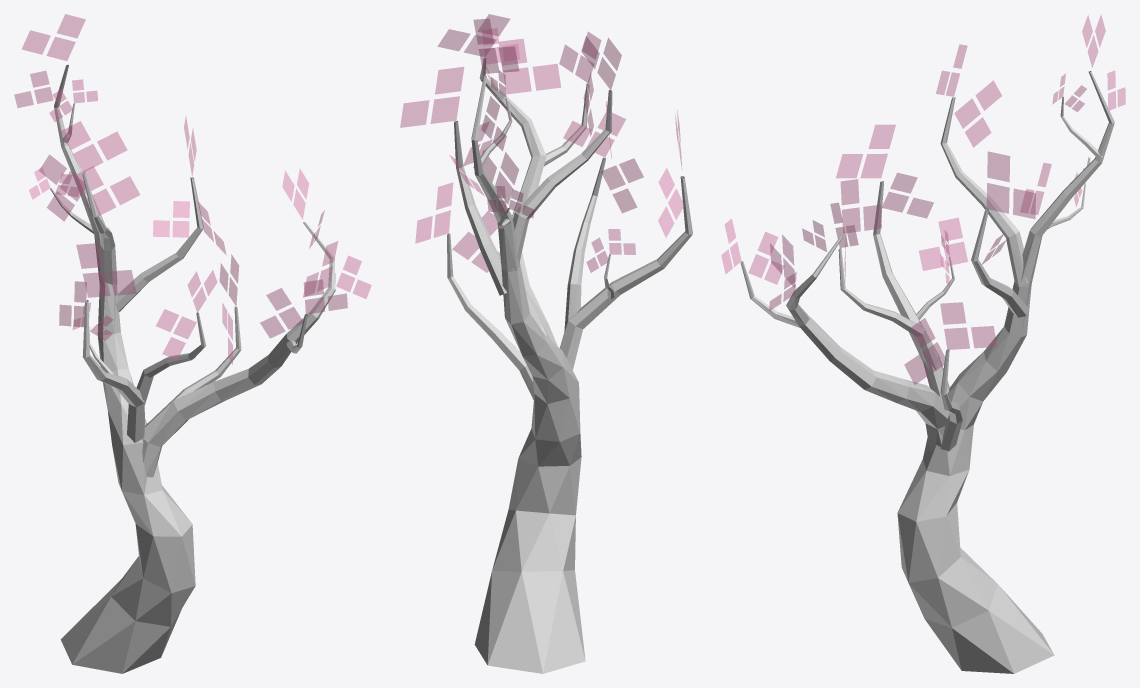
File: Deep_tree_01.fbx
3 renders of one model, left to right at view 1: azimuth 30°, elevation 25°; view 2: azimuth 150°, elevation 25°; view 3: azimuth 270°, elevation 25°, orthographic. The views are drawn at different scales.
Visible parts, largest first — view 1: BezierCurve.002; view 2: BezierCurve.002; view 3: BezierCurve.002.
Part boxes in pixels (box(x1,y1,x2,y2)): BezierCurve.002: box(14, 14, 371, 673); BezierCurve.002: box(400, 14, 692, 673); BezierCurve.002: box(721, 14, 1125, 673).
Size of the model in its own units: 86.95 by 213 by 122.
